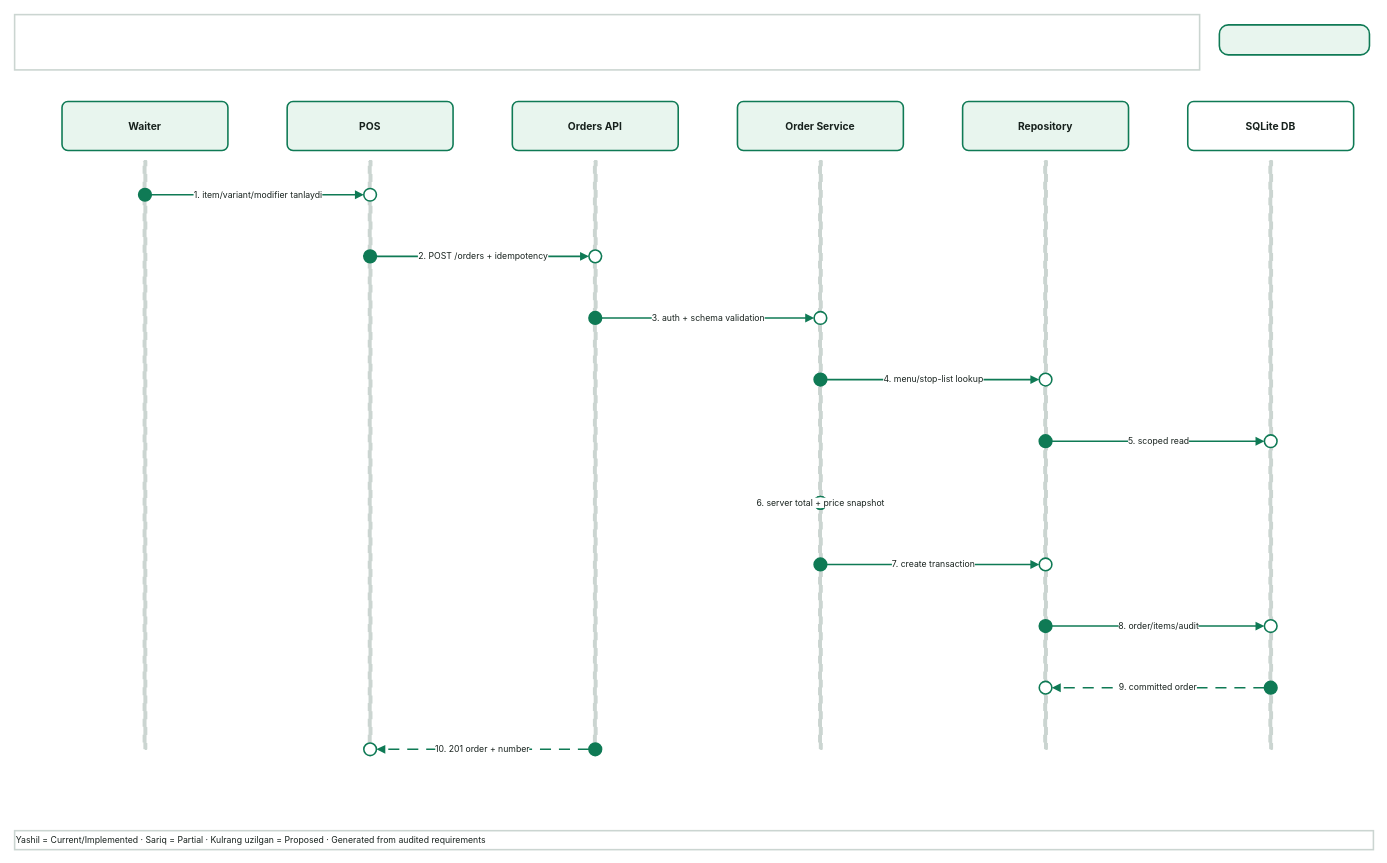
Image size: 1387x863. Some labels were removed from this diagram. Each missing label, with the centre of its shape:
"Current" belongs at pixel 1294 39.
"D07 · Create Order UML Sequence · osonCafe SDLC" belongs at pixel 606 41.
